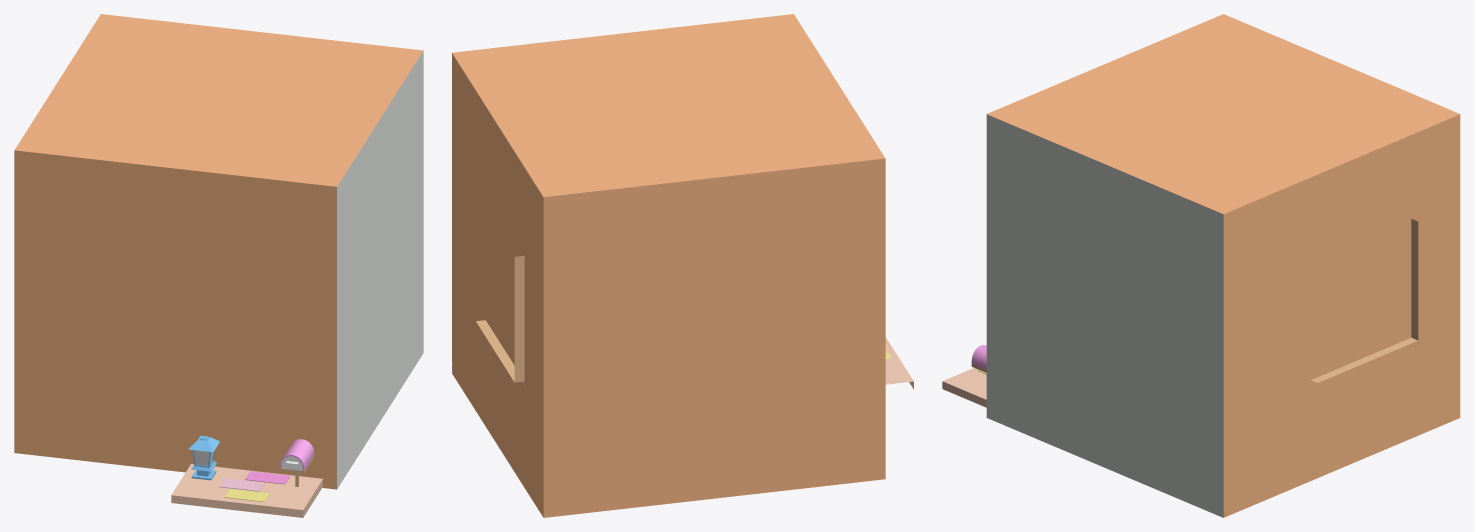
File: Room.glb
3 renders of one model, left to right at view 1: azimuth 30°, elevation 25°; view 2: azimuth 150°, elevation 25°; view 3: azimuth 270°, elevation 25°, orthographic. The views are drawn at different scales.
Visible parts, largest first — view 1: Cube, MiniFloor, Lamp, Mailbox; view 2: Cube, Body, MiniFloor; view 3: Cube, Body, MiniFloor.
Boxes of the visible parts, <box> form: Cube: <box>14,14,423,489</box>; MiniFloor: <box>171,464,322,517</box>; Lamp: <box>188,436,219,480</box>; Mailbox: <box>280,439,313,486</box>; Cube: <box>452,14,885,517</box>; Body: <box>452,115,542,382</box>; MiniFloor: <box>885,337,913,389</box>; Cube: <box>986,14,1460,517</box>; Body: <box>1225,118,1451,515</box>; MiniFloor: <box>942,368,986,407</box>.
Size of the model in its own units: 6.88 by 4.86 by 7.52.
